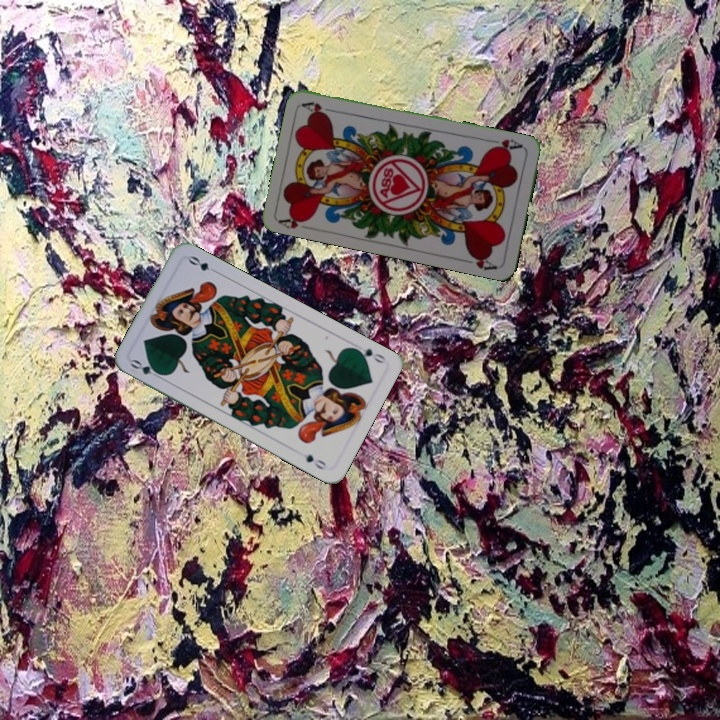GO: (126, 355, 166, 382), (349, 343, 388, 366)
HA: (276, 211, 316, 232), (488, 135, 525, 154)
